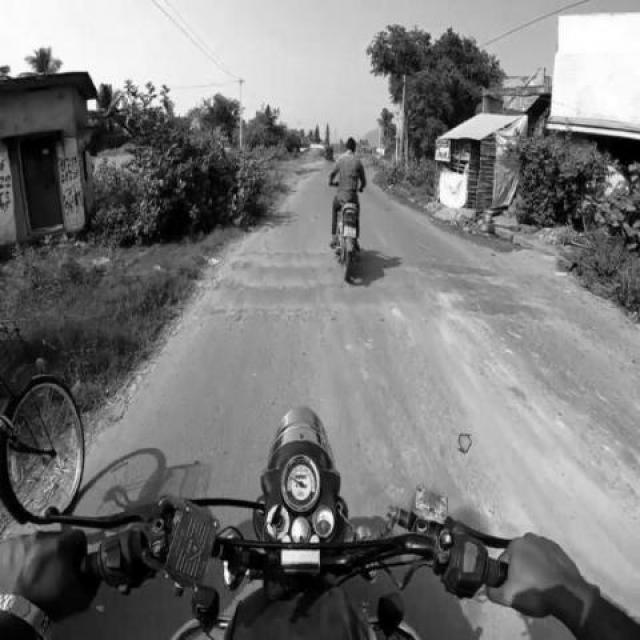Unmarked Bump: (202, 288, 546, 320), (358, 248, 501, 280), (222, 258, 344, 288), (364, 274, 511, 296), (230, 248, 333, 262)
